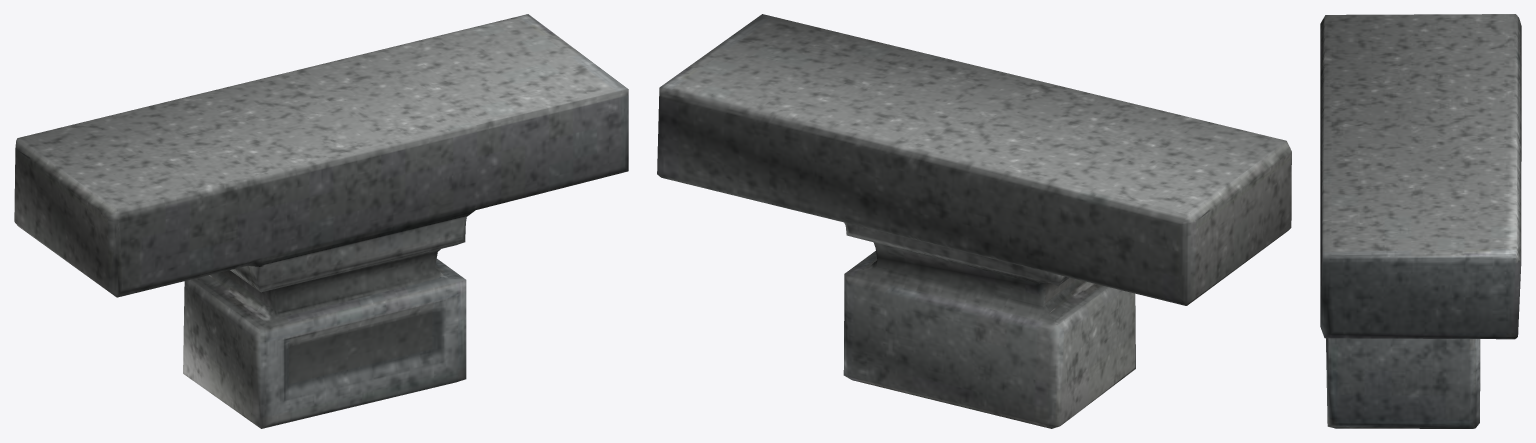
The model's file is bench_grey_far.glb.
The picture shows the model from 3 angles, left to right: view 1: azimuth 30°, elevation 25°; view 2: azimuth 150°, elevation 25°; view 3: azimuth 270°, elevation 25°; orthographic projection. The views are drawn at different scales.
Parts seen in each view (by area): view 1: bench_grey_lod1; view 2: bench_grey_lod1; view 3: bench_grey_lod1.
Boxes of the visible parts, left/top/right/bottom form: bench_grey_lod1: left=14, top=14, right=628, bottom=428; bench_grey_lod1: left=657, top=14, right=1291, bottom=428; bench_grey_lod1: left=1320, top=14, right=1521, bottom=428.
Bounding box in the file's own units: 0.98 × 0.47 × 0.34.
Materials: 1 (1 with a texture image).
